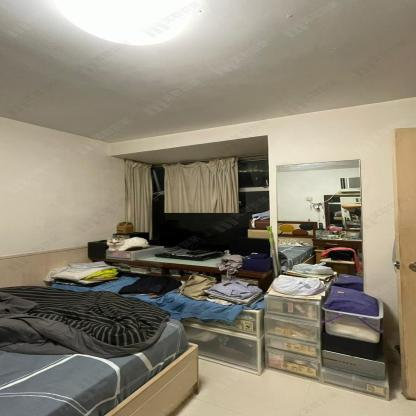Bed: (0, 284, 202, 416)
Windowsill: (87, 135, 275, 277)
